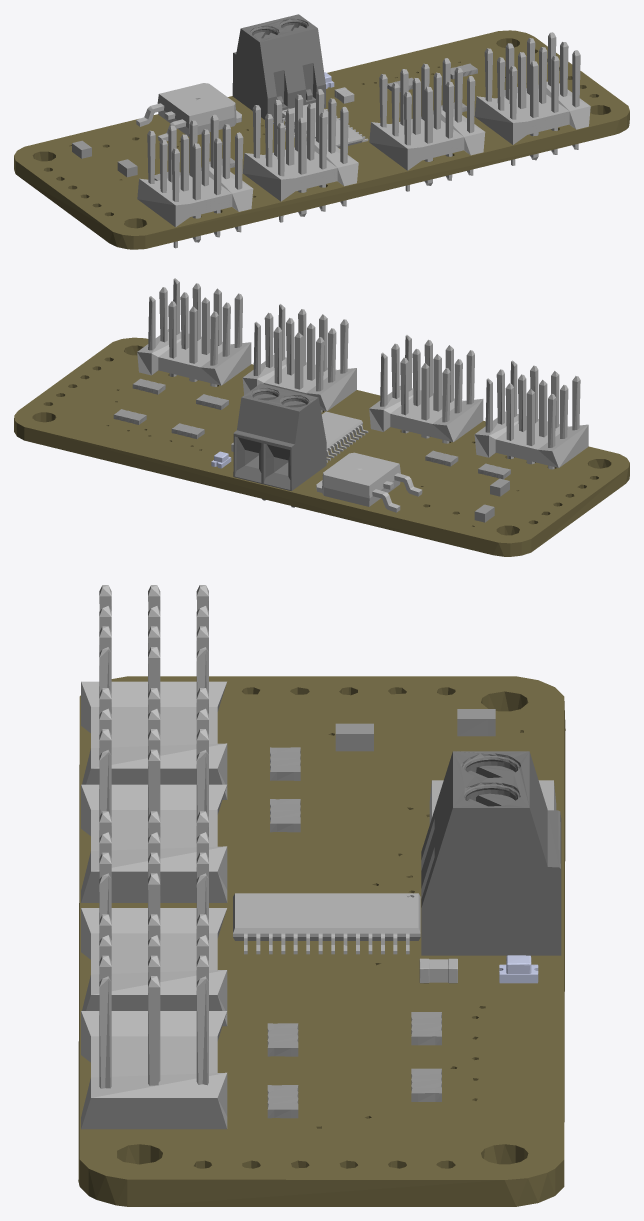
The model's file is adafruit-815-pca9685.glb.
3 views of the same model, one above another, from view 1: azimuth 30°, elevation 25°; view 2: azimuth 150°, elevation 25°; view 3: azimuth 270°, elevation 25° (orthographic). The views are drawn at different scales.
Visible parts, largest first — view 1: colour 2, colour 1, colour 4, colour 3; view 2: colour 1, colour 2, colour 4, colour 3; view 3: colour 1, colour 2, colour 4, colour 3, colour 5.
Part boxes in pixels (x1,y1,x2,y2): colour 2: (136,32,590,248); colour 1: (14,30,629,249); colour 4: (232,14,325,120); colour 3: (72,63,526,180); colour 1: (14,337,629,556); colour 2: (137,278,588,512); colour 4: (233,383,326,507); colour 3: (113,378,510,522); colour 1: (78,676,565,1206); colour 2: (81,585,556,1129); colour 4: (421,751,561,955); colour 3: (267,709,495,1118); colour 5: (499,955,538,983).
Size of the model in its own units: 0.0622 by 0.0121 by 0.0254.
